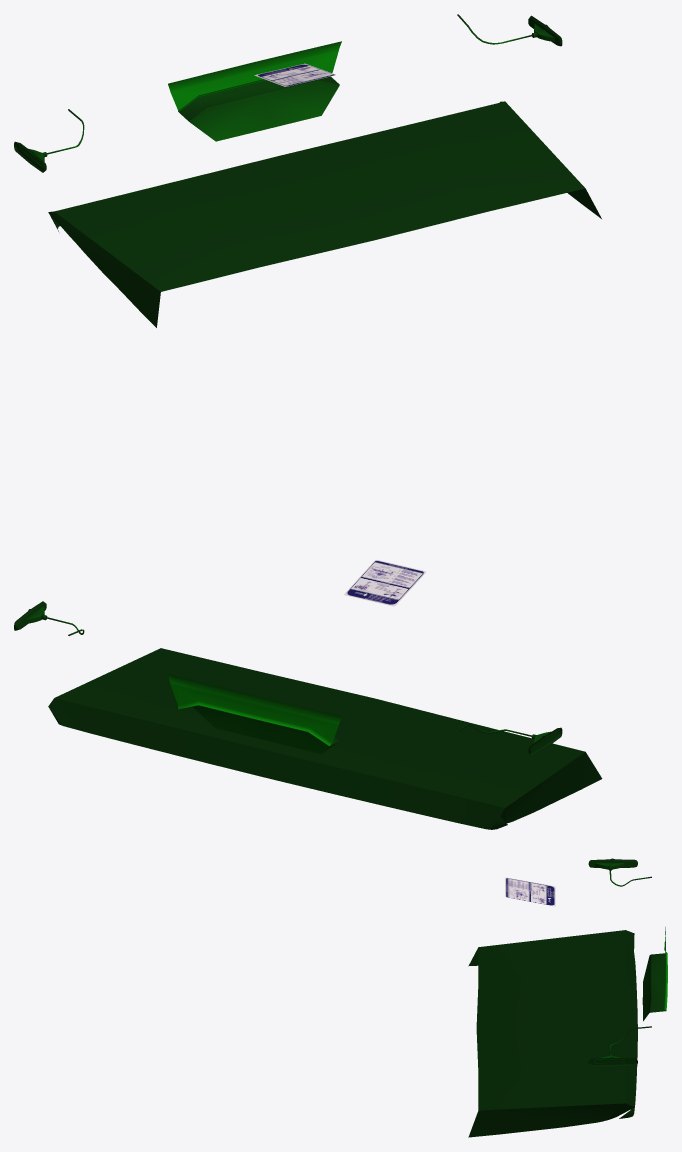
File: Pontiac_GTOTheJudgeClassic_1969_Body4b_lodA.fbx
The picture shows the model from 3 angles, top to bottom: view 1: azimuth 30°, elevation 25°; view 2: azimuth 150°, elevation 25°; view 3: azimuth 270°, elevation 25°; orthographic projection. The views are drawn at different scales.
Visible parts, largest first — view 1: Body4b_Coloured_Geo_lodA, Body4b_Textured_Geo_lodA; view 2: Body4b_Coloured_Geo_lodA, Body4b_Textured_Geo_lodA; view 3: Body4b_Coloured_Geo_lodA, Body4b_Textured_Geo_lodA.
Boxes of the visible parts, box(x1,y1,x2,y2) form: Body4b_Coloured_Geo_lodA: box(14, 14, 601, 327); Body4b_Textured_Geo_lodA: box(254, 63, 335, 86); Body4b_Coloured_Geo_lodA: box(14, 601, 602, 829); Body4b_Textured_Geo_lodA: box(344, 559, 426, 606); Body4b_Coloured_Geo_lodA: box(468, 858, 667, 1137); Body4b_Textured_Geo_lodA: box(505, 877, 555, 906).
Size of the model in its own units: 1.8 by 0.698 by 2.49.
